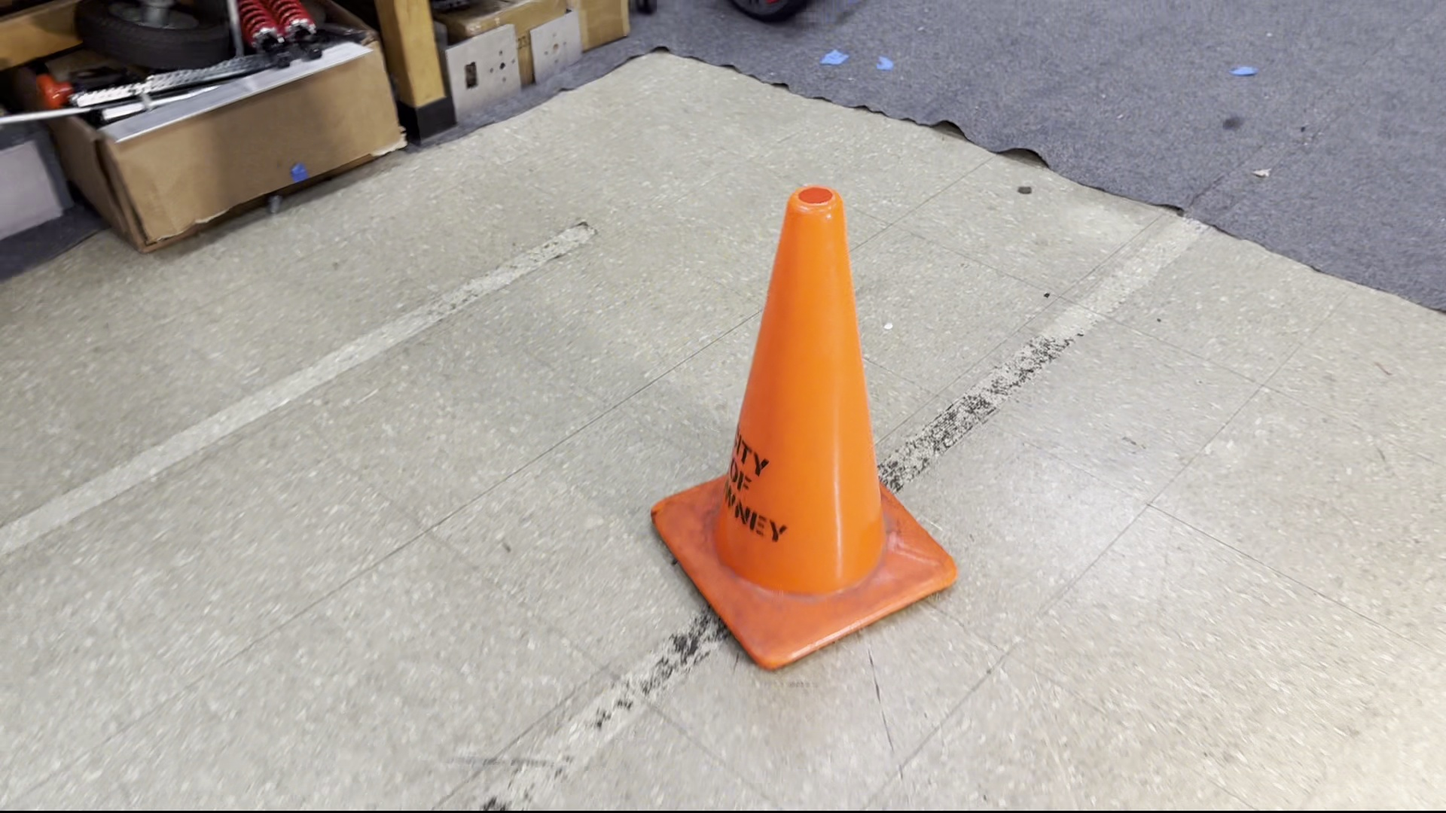traffic_cone: (649, 184, 959, 672)
